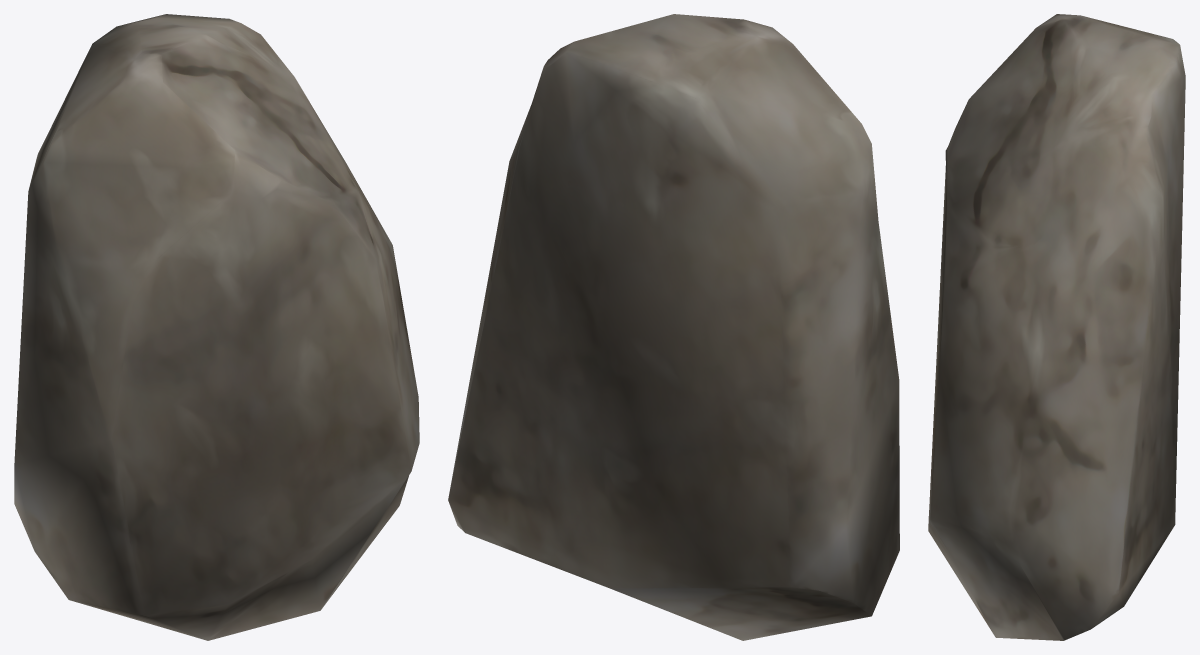
File: rock_02_LOD.obj
The picture shows the model from 3 angles, left to right: view 1: azimuth 30°, elevation 25°; view 2: azimuth 150°, elevation 25°; view 3: azimuth 270°, elevation 25°; orthographic projection. The views are drawn at different scales.
Parts seen in each view (by area): view 1: rock_2_LOD_Cube.007; view 2: rock_2_LOD_Cube.007; view 3: rock_2_LOD_Cube.007.
Part boxes in pixels (bbox=[...]): rock_2_LOD_Cube.007: bbox=[14, 14, 419, 640]; rock_2_LOD_Cube.007: bbox=[448, 14, 899, 640]; rock_2_LOD_Cube.007: bbox=[928, 14, 1185, 640].
Bounding box in the file's own units: 1.29 × 1.97 × 0.81.
